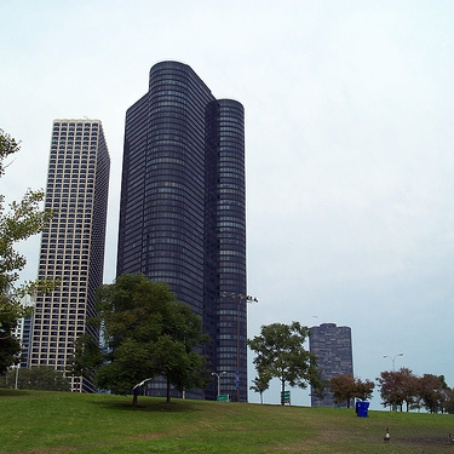building: (120, 71, 248, 397), (28, 114, 121, 398), (307, 321, 362, 410)
grass: (1, 400, 454, 454)
sky: (1, 1, 443, 365)
tree: (74, 276, 206, 406), (247, 314, 315, 412), (379, 368, 442, 415), (330, 372, 378, 411)
